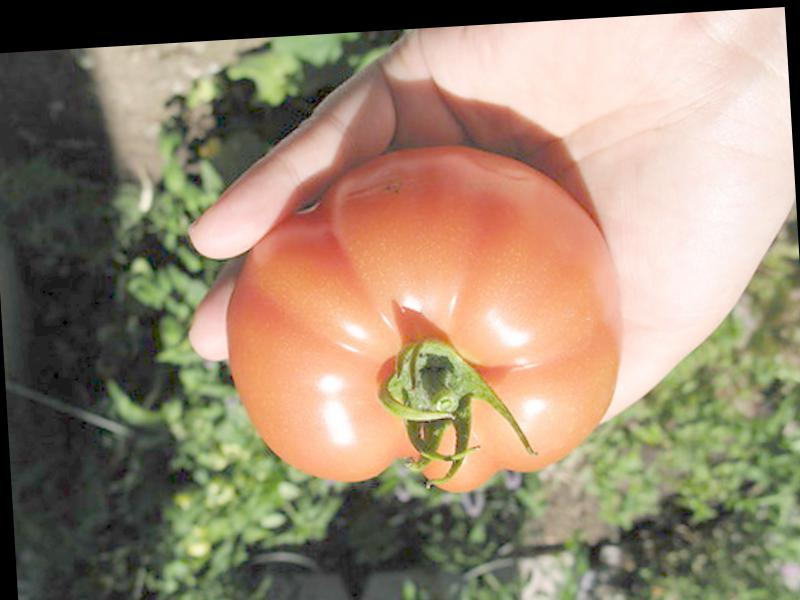Tomato: (216, 141, 627, 505)
